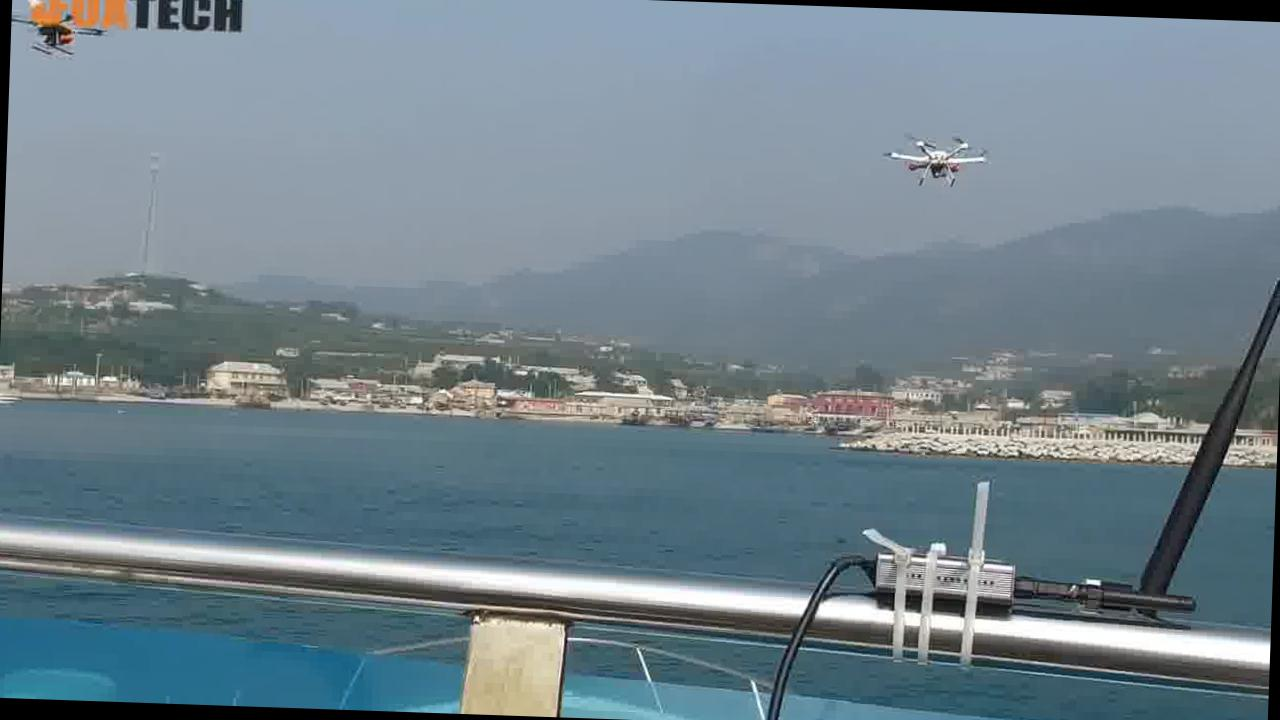drone: (876, 116, 1007, 197)
